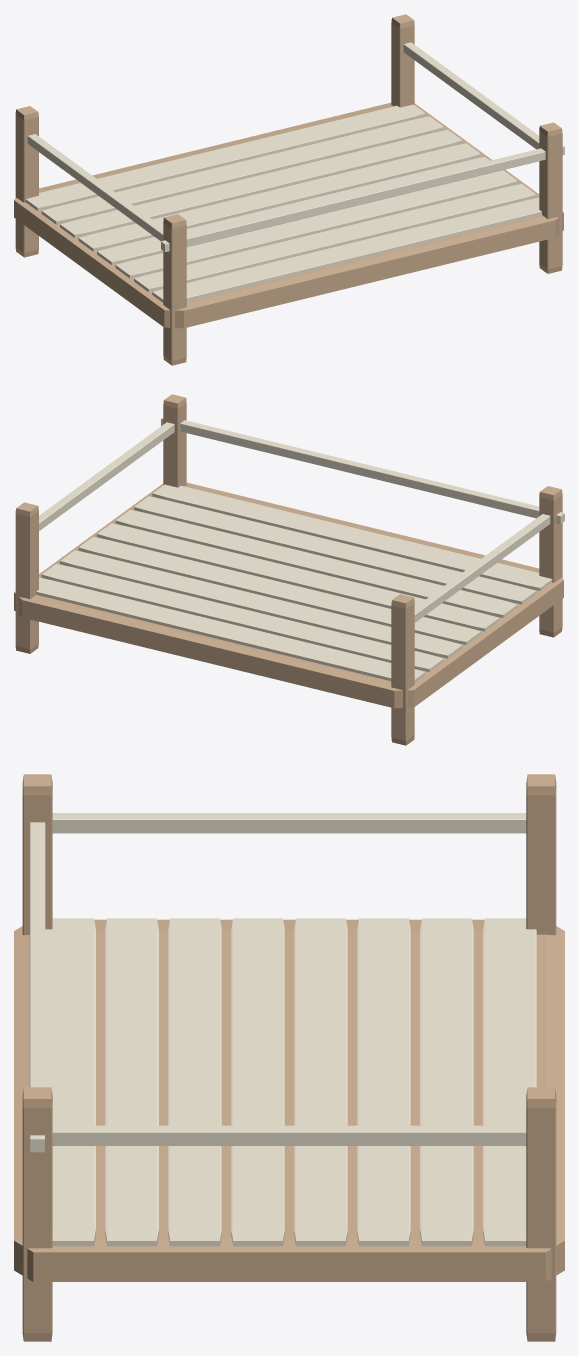
3 views of the same model, one above another, from view 1: azimuth 30°, elevation 25°; view 2: azimuth 150°, elevation 25°; view 3: azimuth 270°, elevation 25° (orthographic). The views are drawn at different scales.
Parts seen in each view (by area): view 1: deck, deck_plank1, deck_plank2, deck_plank0, deck_plank6, deck_plank7, deck_plank5, deck_plank3, back_rail, post_0_1, post_1_1, deck_plank4 (+4 smaller); view 2: deck, deck_plank6, deck_plank5, deck_plank7, deck_plank2, deck_plank1, deck_plank3, deck_plank0, deck_plank4, back_rail, post_0_0, post_1_0 (+4 smaller); view 3: deck, deck_plank1, deck_plank2, deck_plank5, deck_plank6, deck_plank3, deck_plank4, deck_plank0, deck_plank7, side_a, side_b, post_1_0 (+4 smaller).
Part boxes in pixels (x1,y1,x2,y2): deck: (14, 102, 563, 328); deck_plank1: (41, 116, 443, 224); deck_plank2: (60, 129, 462, 237); deck_plank0: (25, 104, 425, 210); deck_plank6: (134, 184, 536, 291); deck_plank7: (152, 197, 541, 302); deck_plank5: (115, 170, 517, 278); deck_plank3: (78, 143, 480, 251); back_rail: (161, 145, 564, 252); post_0_1: (163, 214, 186, 365); post_1_1: (539, 122, 562, 273); deck_plank4: (97, 157, 489, 264); deck: (14, 482, 563, 708); deck_plank6: (134, 496, 536, 604); deck_plank5: (115, 509, 517, 617); deck_plank7: (152, 484, 552, 590); deck_plank2: (60, 550, 462, 658); deck_plank1: (41, 564, 443, 672); deck_plank3: (78, 536, 480, 644); deck_plank0: (36, 577, 425, 682); deck_plank4: (97, 523, 499, 631); back_rail: (161, 417, 564, 523); post_0_0: (391, 594, 414, 745); post_1_0: (15, 502, 38, 653); deck: (14, 919, 564, 1281); deck_plank1: (420, 918, 473, 1246); deck_plank2: (357, 918, 410, 1246); deck_plank5: (168, 918, 221, 1246); deck_plank6: (105, 918, 158, 1246); deck_plank3: (294, 918, 347, 1246); deck_plank4: (231, 918, 284, 1246); deck_plank0: (483, 918, 536, 1246); deck_plank7: (45, 918, 95, 1246); side_a: (52, 813, 526, 833); side_b: (52, 1125, 526, 1145); post_1_0: (526, 1087, 556, 1341).
Bounding box in the file's own units: 10 × 3.4 × 7.
